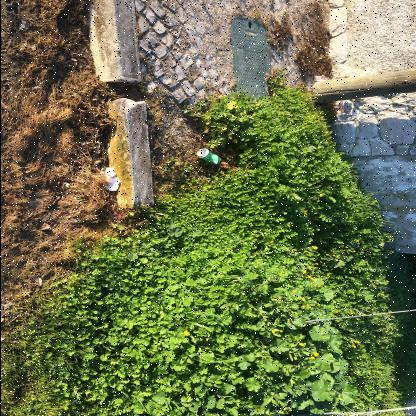metal: (197, 148, 221, 166)
